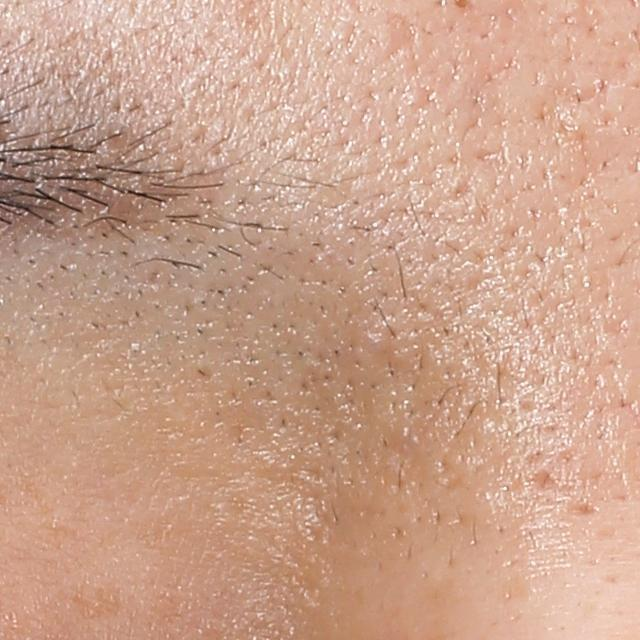atrophic_scar: (384, 11, 418, 59), (532, 468, 567, 496), (569, 502, 607, 521)
